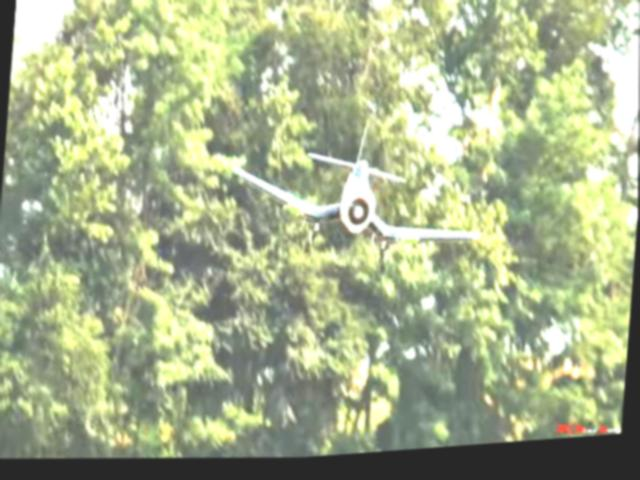uav: (218, 106, 494, 277)
